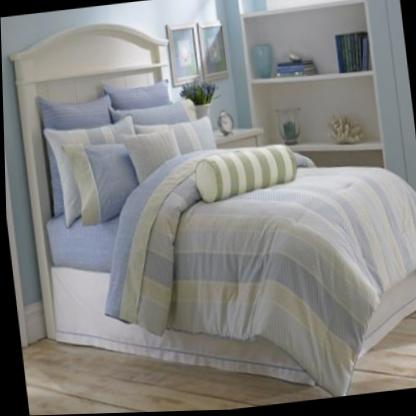Bed: (6, 0, 416, 416)
Wooden floor: (20, 340, 330, 416)
